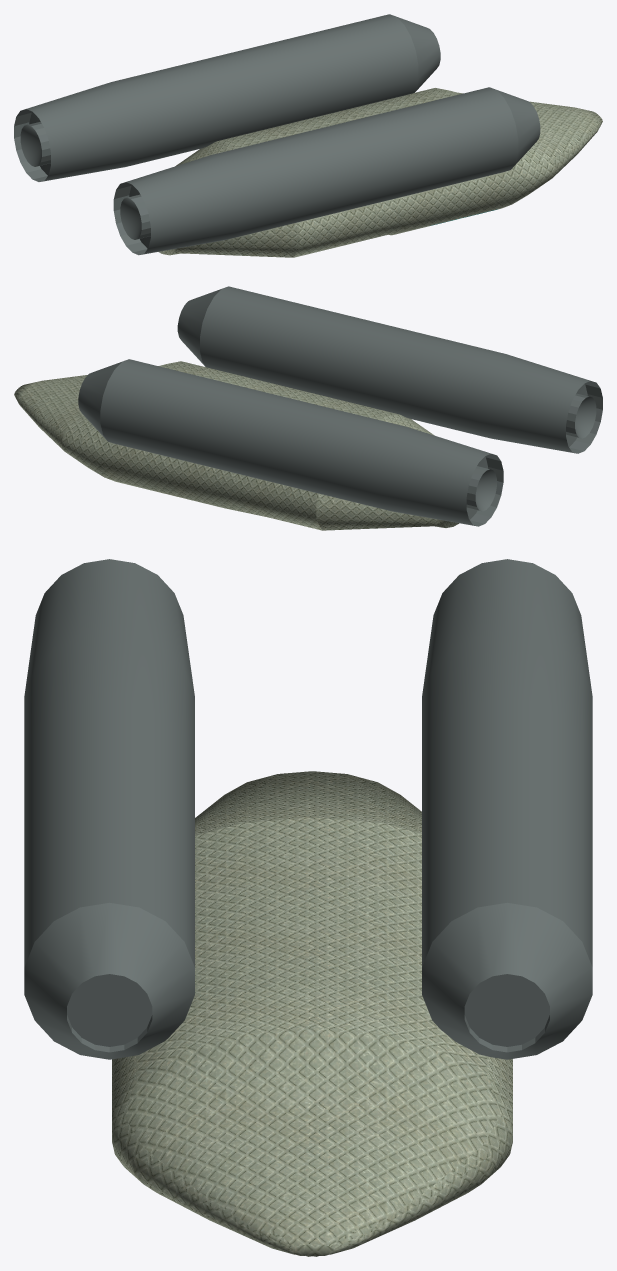
The model's file is alienShip3.FBX.
3 renders of one model, top to bottom at view 1: azimuth 30°, elevation 25°; view 2: azimuth 150°, elevation 25°; view 3: azimuth 270°, elevation 25°, orthographic. The views are drawn at different scales.
Visible parts, largest first — view 1: Cylinder002; view 2: Cylinder002; view 3: Cylinder002.
Boxes of the visible parts, bbox=[...] form: Cylinder002: bbox=[14, 14, 602, 257]; Cylinder002: bbox=[14, 286, 602, 530]; Cylinder002: bbox=[24, 559, 592, 1256].
Bounding box in the file's own units: 80.28 × 38.35 × 22.01.
Materials: 2 (2 with a texture image).
